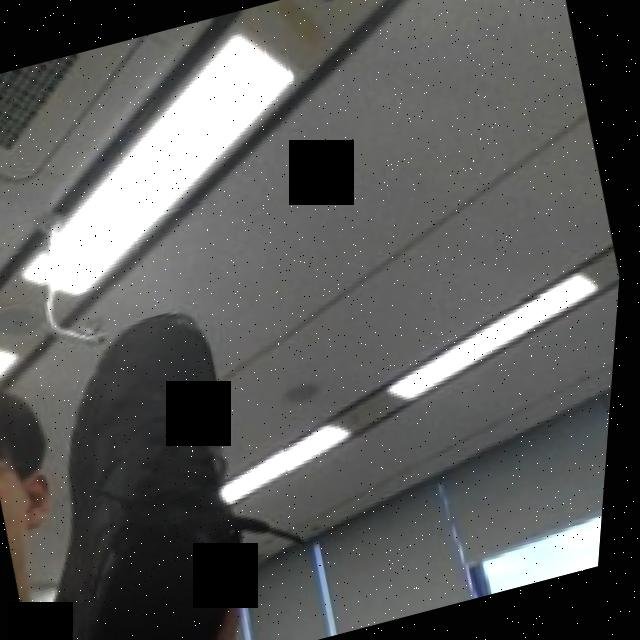shoe: (0, 249, 352, 640)
